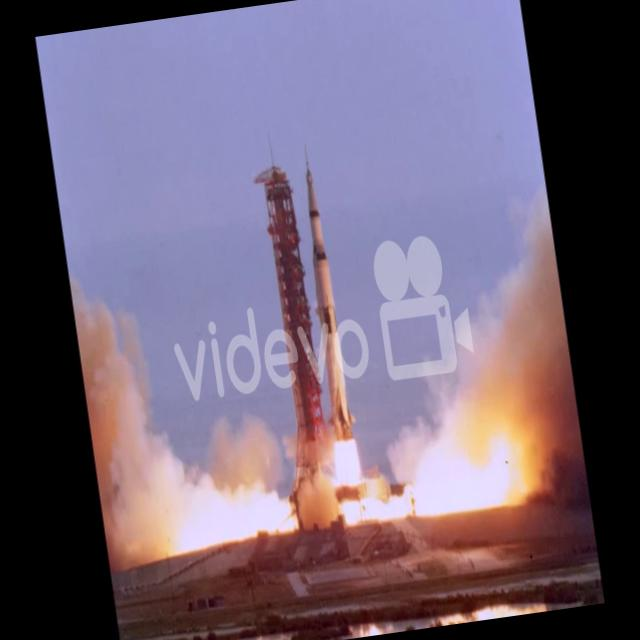rocket: (295, 156, 363, 498)
